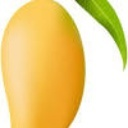mango: (1, 1, 86, 128)
